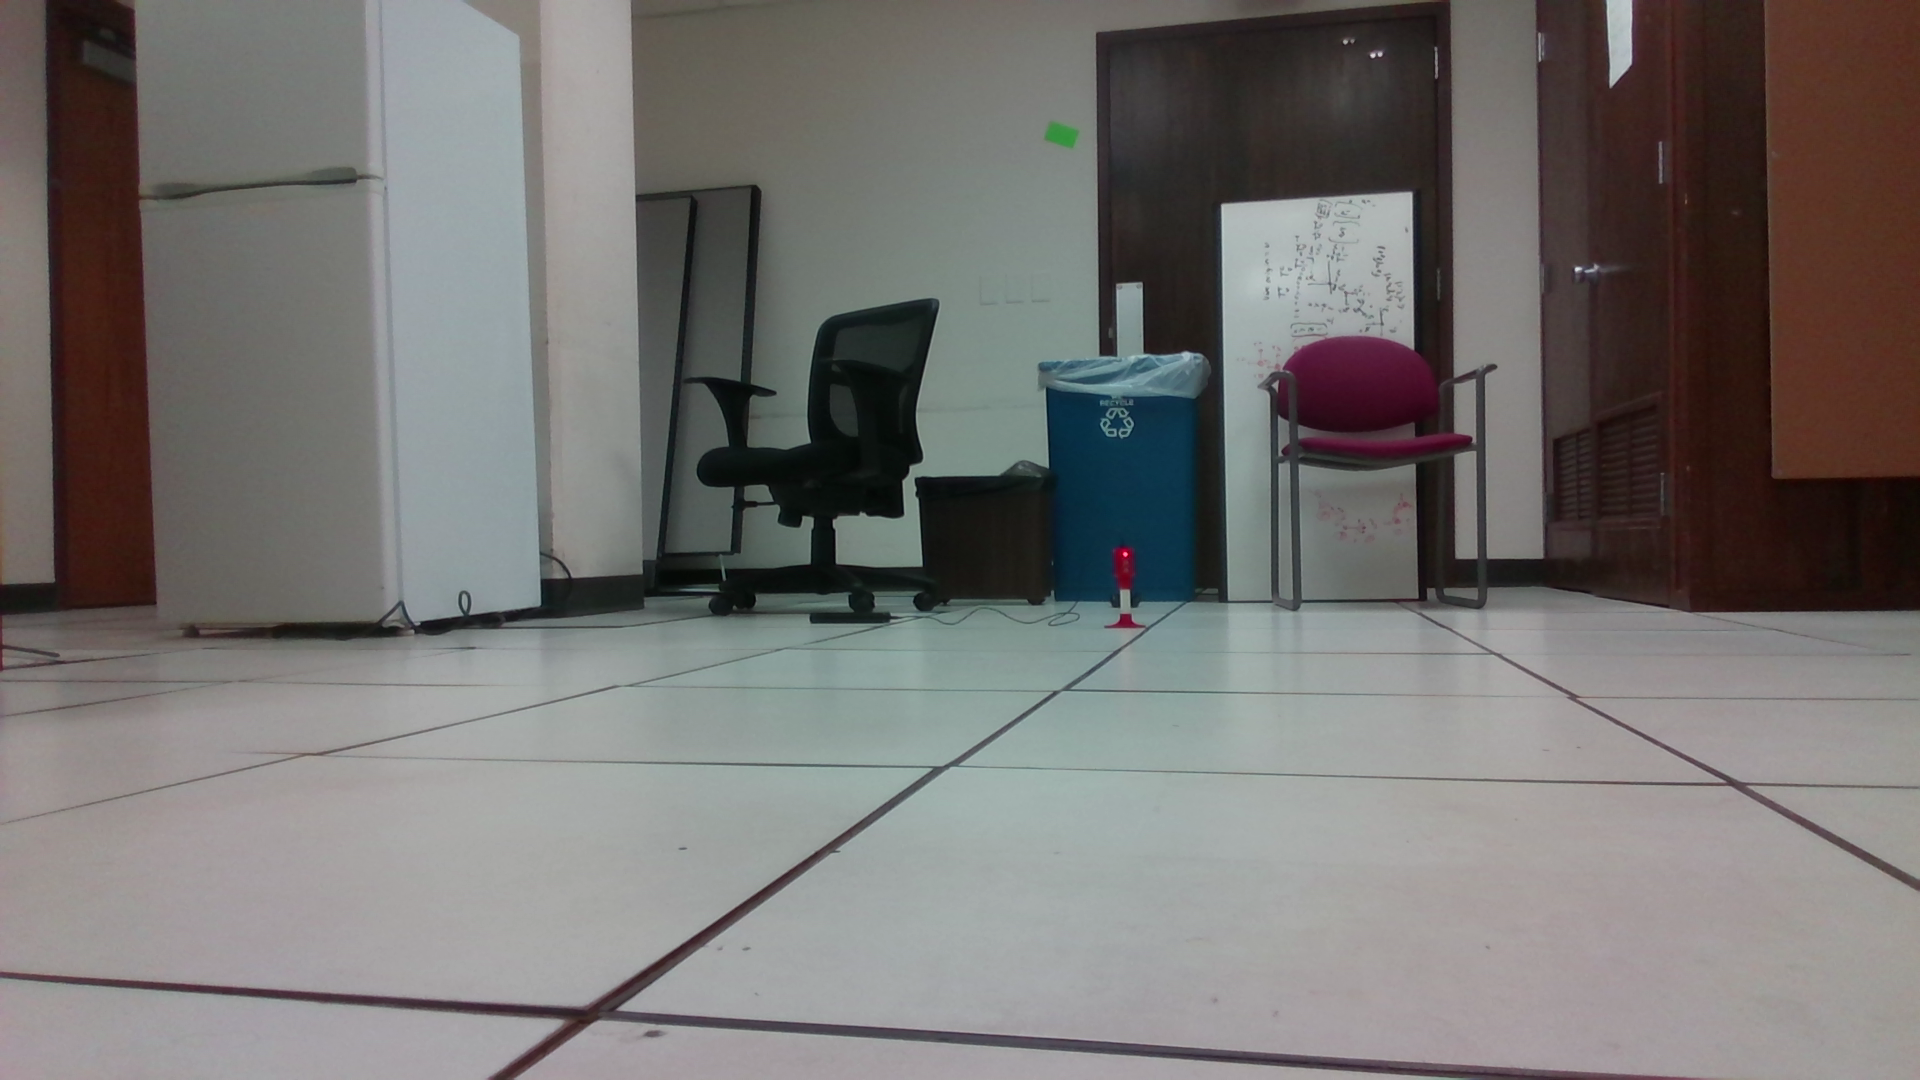stoplight: (1116, 545, 1137, 587)
